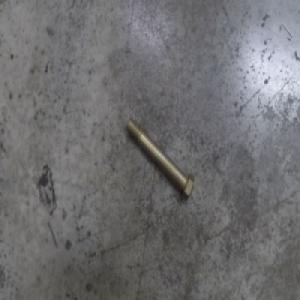Bolt: (126, 115, 196, 202)
